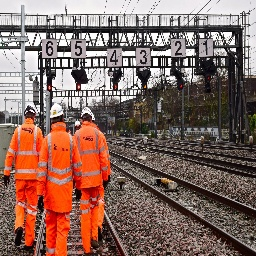helmet: (80, 106, 97, 123), (23, 97, 36, 119), (50, 103, 63, 123)
person: (71, 95, 114, 256), (38, 102, 81, 255), (6, 97, 43, 250)
vest: (46, 135, 77, 216), (76, 126, 106, 201), (15, 125, 42, 191)
